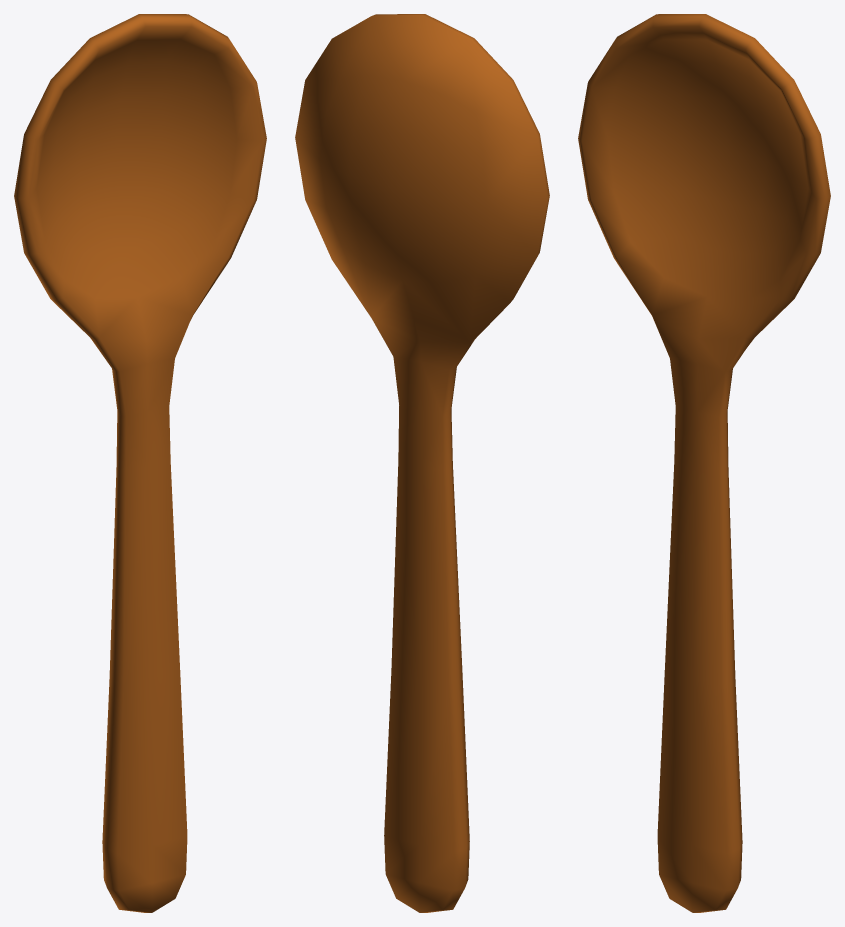
File: WoodSpatula.FBX
3 renders of one model, left to right at view 1: azimuth 30°, elevation 25°; view 2: azimuth 150°, elevation 25°; view 3: azimuth 330°, elevation 25°, orthographic.
Visible parts, largest first — view 1: WoodSpatula; view 2: WoodSpatula; view 3: WoodSpatula.
Boxes of the visible parts, x1,y1,x2,y2 form: WoodSpatula: (14, 14, 266, 912); WoodSpatula: (295, 14, 549, 912); WoodSpatula: (578, 14, 830, 912).
Bounding box in the file's own units: 42.51 × 145 × 12.48.
